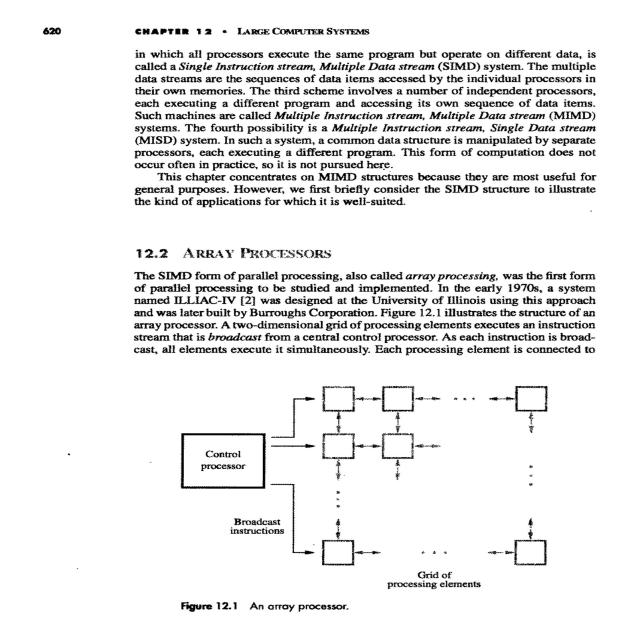diagram: (133, 361, 640, 639)
